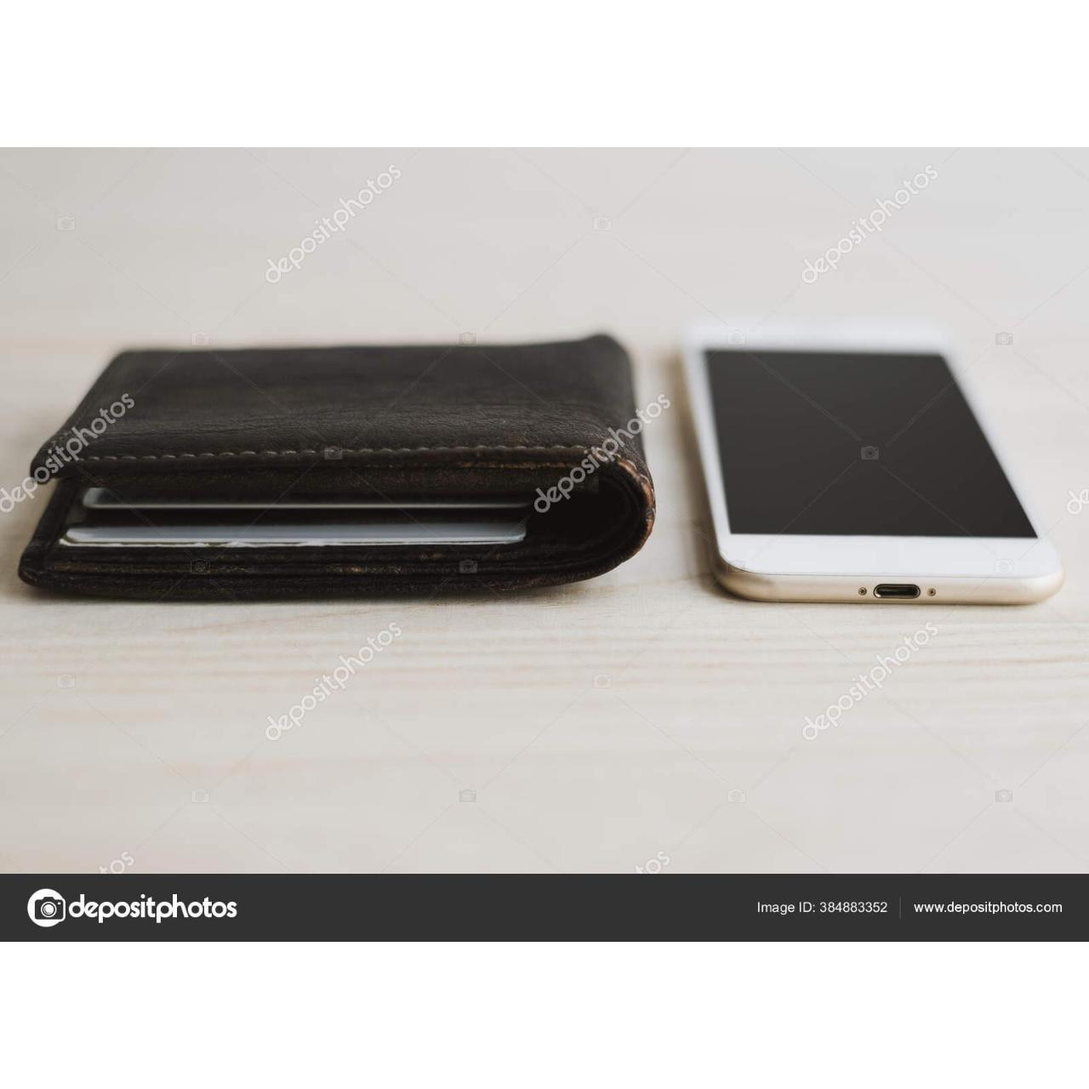wallet: (16, 327, 663, 628)
